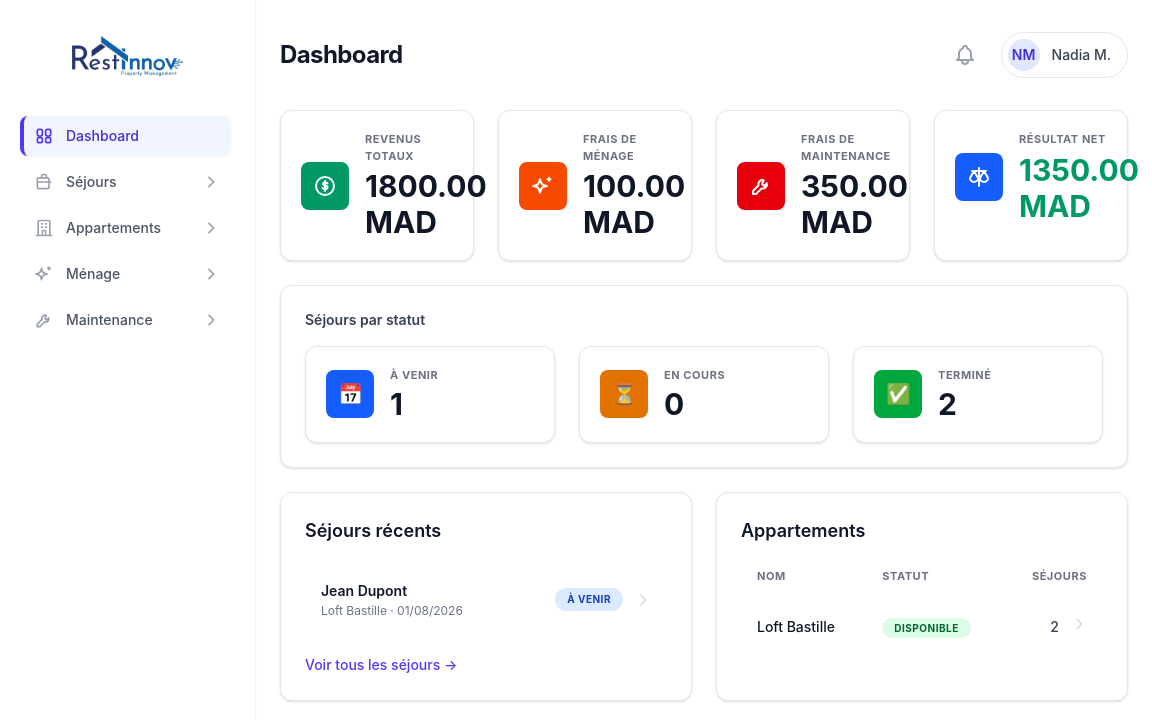
Test: App › replie le sous-menu Séjours au second clic sur le groupe
The image size is (1152, 720).
Click the button "Séjours" at (126,182), box [20,162,231,202]
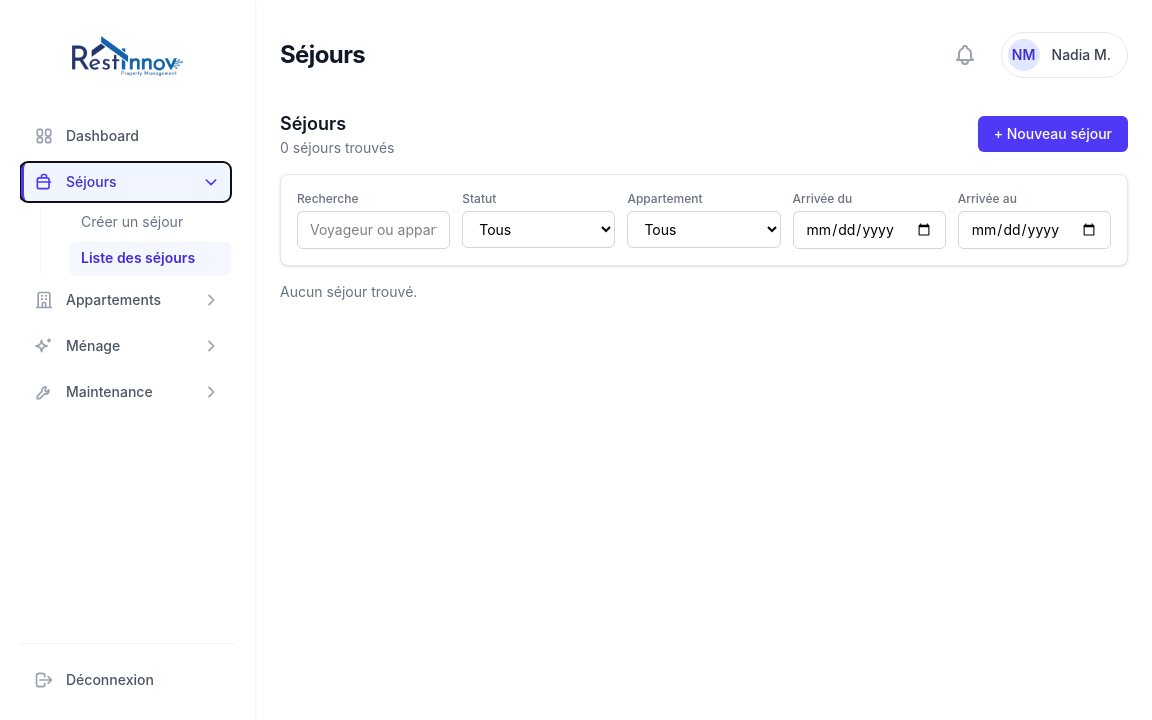
expect the button "Créer un séjour" is shown: met, box [69,206,231,238]
Click the button "Séjours" at (126,182), box [20,162,231,202]
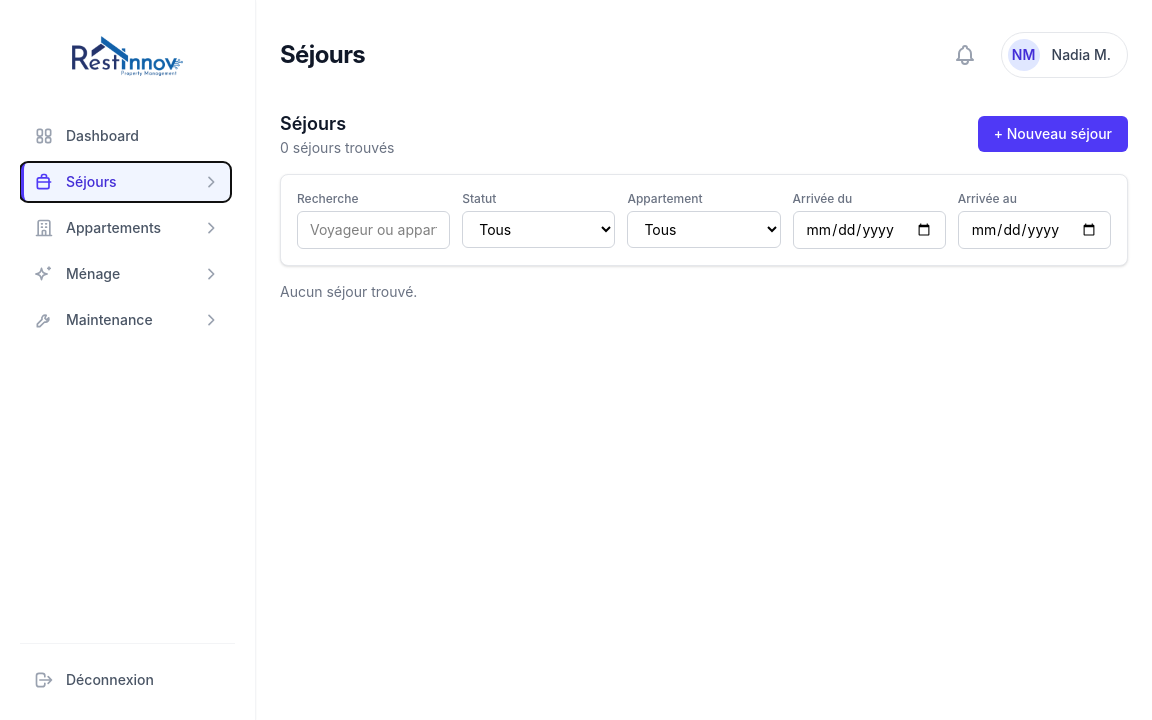
expect the button "Créer un séjour" is gone: met
